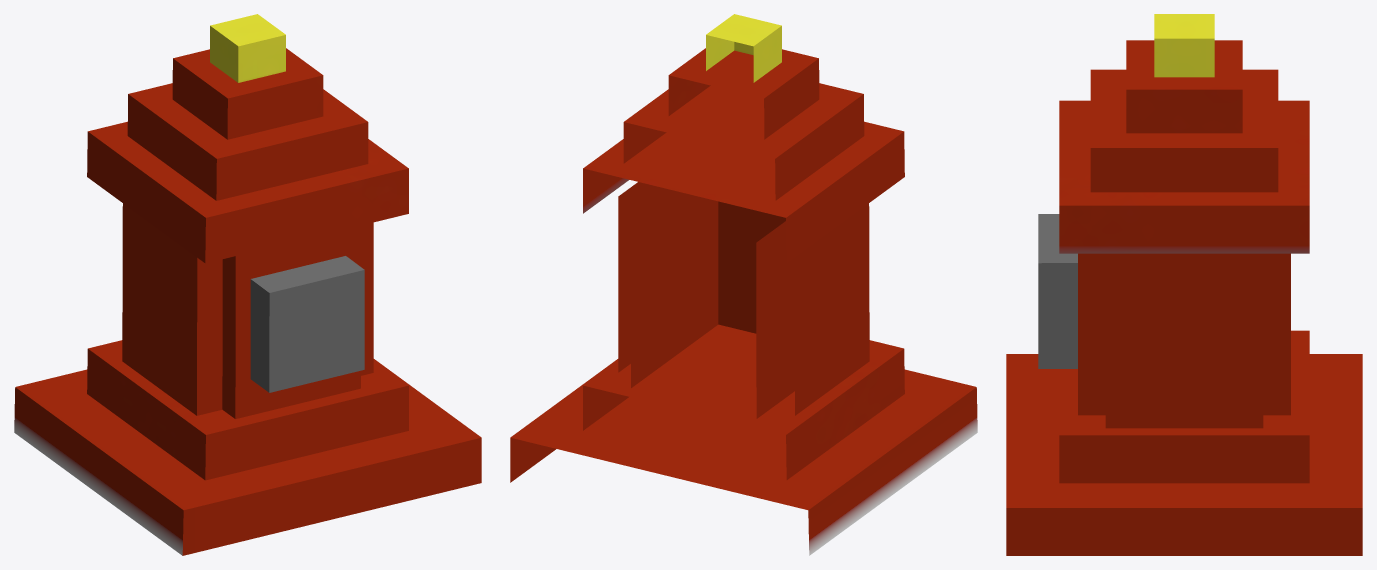
The model's file is Hidrante 1.fbx.
3 views of the same model, side by side, from view 1: azimuth 30°, elevation 25°; view 2: azimuth 150°, elevation 25°; view 3: azimuth 270°, elevation 25° (orthographic). The views are drawn at different scales.
Parts seen in each view (by area): view 1: Hidrante; view 2: Hidrante; view 3: Hidrante.
Part boxes in pixels (x1=…): Hidrante: x1=14, y1=14, x2=481, y2=555; Hidrante: x1=510, y1=14, x2=977, y2=555; Hidrante: x1=1006, y1=14, x2=1362, y2=555.
Bounding box in the file's own units: 0.6273 × 0.8572 × 0.6121.
